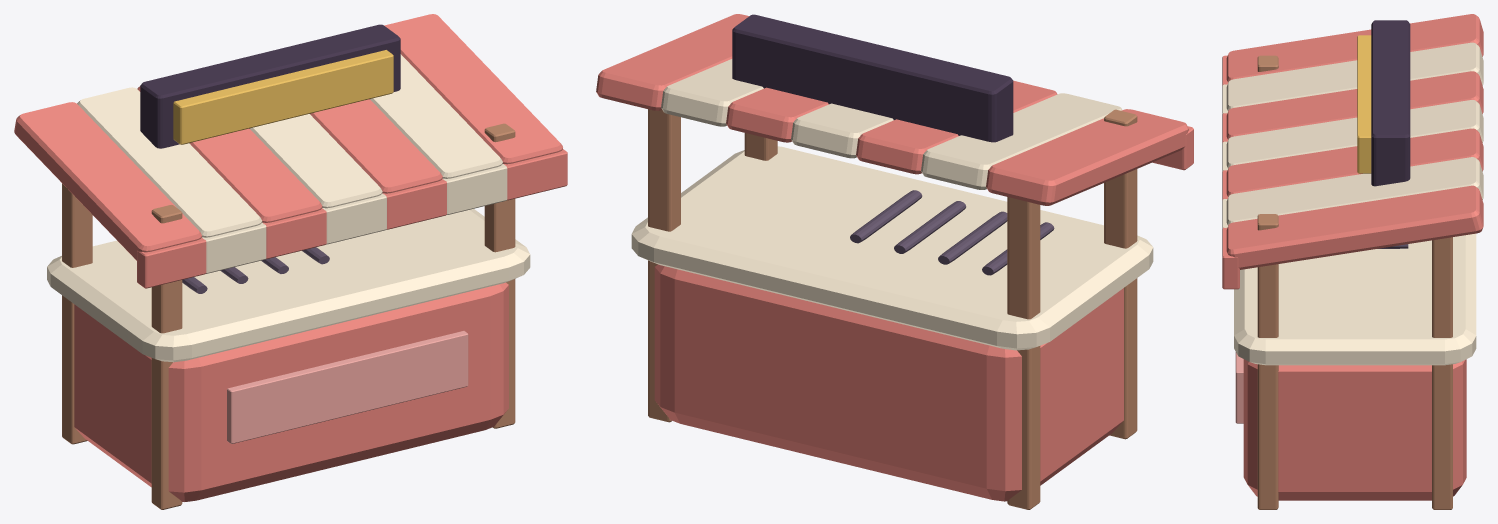
File: sausage_stall.glb
3 renders of one model, left to right at view 1: azimuth 30°, elevation 25°; view 2: azimuth 150°, elevation 25°; view 3: azimuth 270°, elevation 25°, orthographic. The views are drawn at different scales.
Parts seen in each view (by area): view 1: model, awning, counter, sign_blank, sign_back; view 2: model, counter, awning, sign_back; view 3: awning, model, counter, sign_back, sign_blank.
Boxes of the visible parts, x1,y1,x2,y2 form: model: (47, 123, 567, 509); awning: (14, 14, 562, 260); counter: (74, 282, 508, 501); sign_blank: (173, 50, 393, 144); sign_back: (140, 24, 400, 148); model: (631, 109, 1193, 509); counter: (654, 264, 1123, 501); awning: (596, 14, 1188, 205); sign_back: (732, 14, 1013, 142); awning: (1226, 14, 1483, 269); model: (1222, 55, 1476, 509); counter: (1243, 359, 1466, 500); sign_back: (1371, 20, 1410, 186); sign_blank: (1357, 35, 1371, 173).
Bounding box in the file's own units: 1.55 × 1.25 × 0.85.
